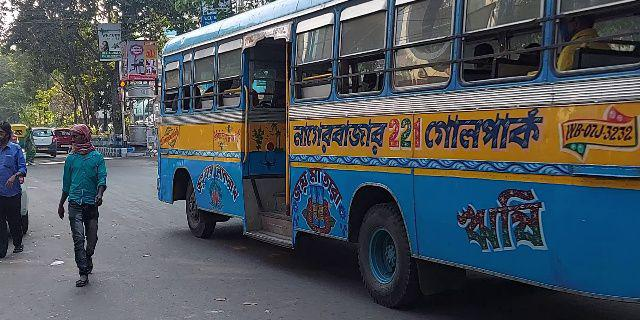Bus: (151, 2, 640, 307)
Car: (26, 121, 59, 159)
